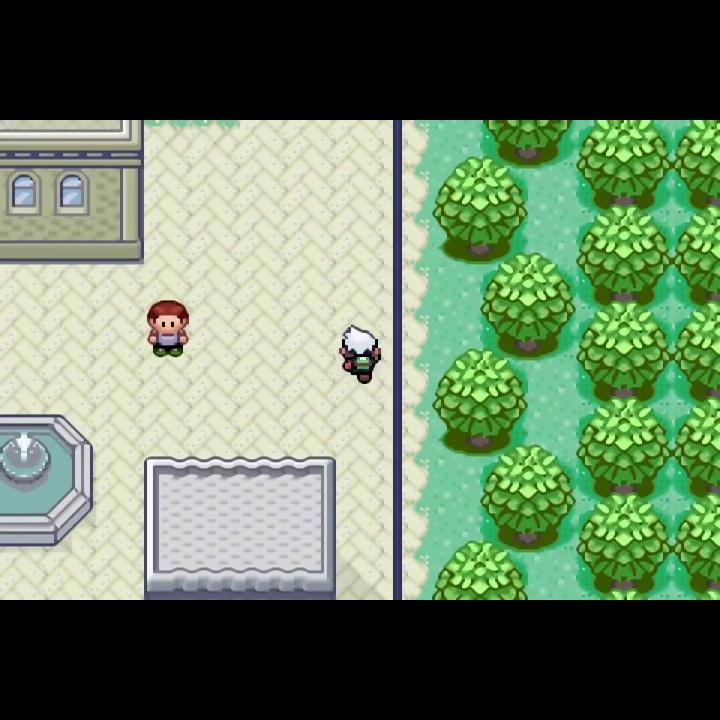house: (140, 455, 340, 600), (1, 121, 147, 269)
npc: (336, 321, 383, 386), (143, 297, 191, 360)
wall: (431, 156, 529, 267), (480, 250, 576, 360), (433, 347, 527, 458), (480, 445, 576, 552), (577, 494, 673, 600), (576, 398, 672, 496), (576, 120, 673, 216), (576, 205, 672, 302), (577, 301, 671, 400), (431, 543, 530, 599), (673, 493, 720, 600), (480, 121, 577, 171), (672, 395, 720, 493), (672, 301, 720, 399), (672, 205, 720, 303), (674, 119, 720, 207)
